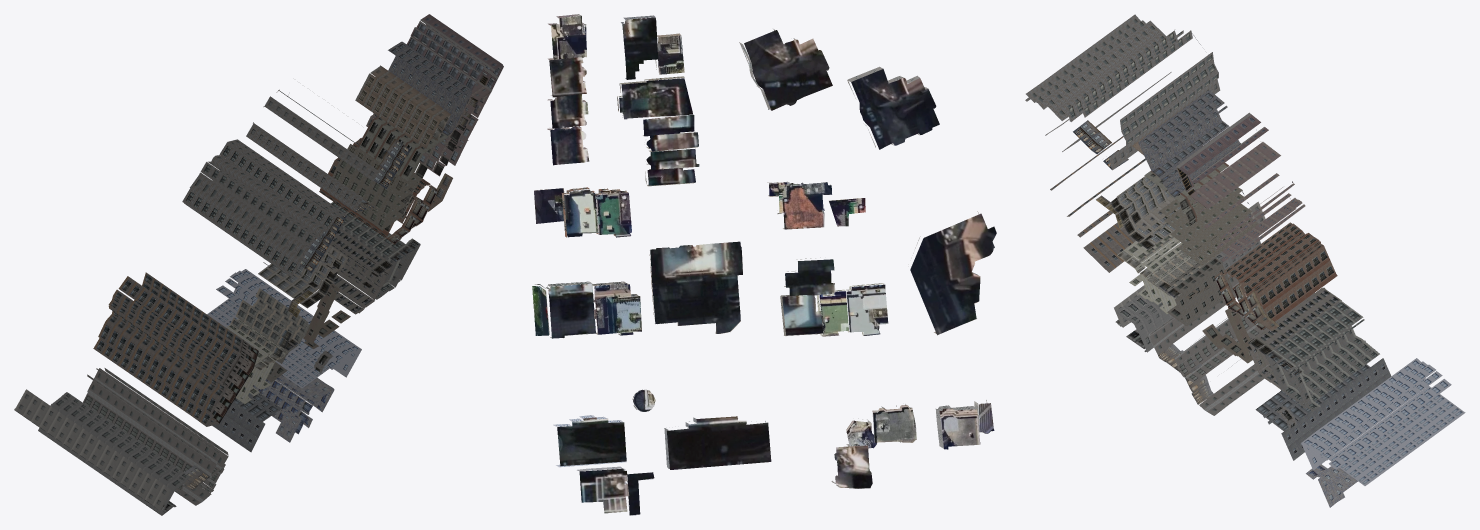
The model's file is tile_LOD4_r4_c11.glb.
The picture shows the model from 3 angles, left to right: view 1: azimuth 30°, elevation 25°; view 2: azimuth 150°, elevation 25°; view 3: azimuth 270°, elevation 25°; orthographic projection. The views are drawn at different scales.
Size of the model in its own units: 178 by 160 by 145.
Materials: 138 (138 with a texture image).
